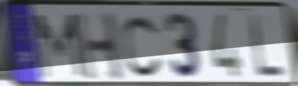3: (164, 11, 203, 81)
4: (210, 11, 245, 81)
C: (121, 14, 164, 80)
H: (74, 10, 127, 83)
L: (247, 13, 287, 80)
M: (32, 11, 87, 81)
